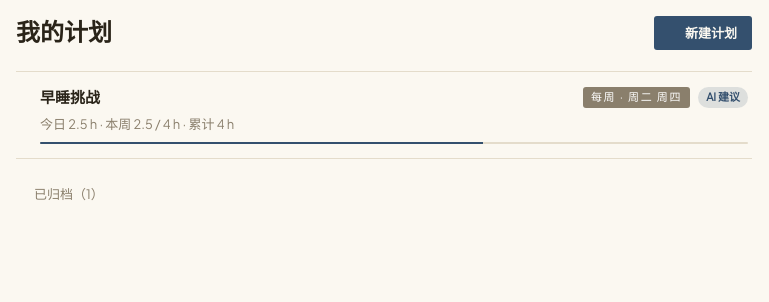
Test: PlanScene › 已归档计划折叠在底部
Expected: the text "旧计划已归档" is not shown
Click the button with test id "archived-toggle" at (60, 195), box [16, 185, 104, 205]
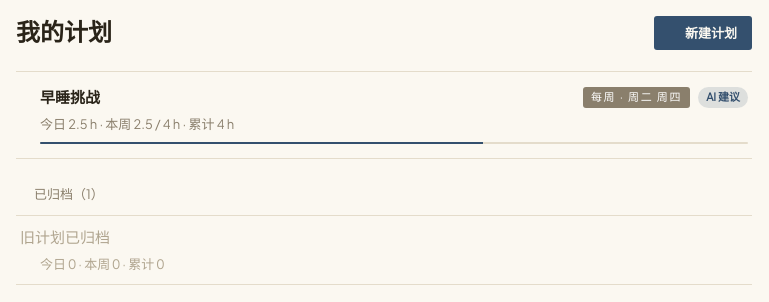
Expected: the text "旧计划已归档" is shown, [20, 227, 110, 246]
